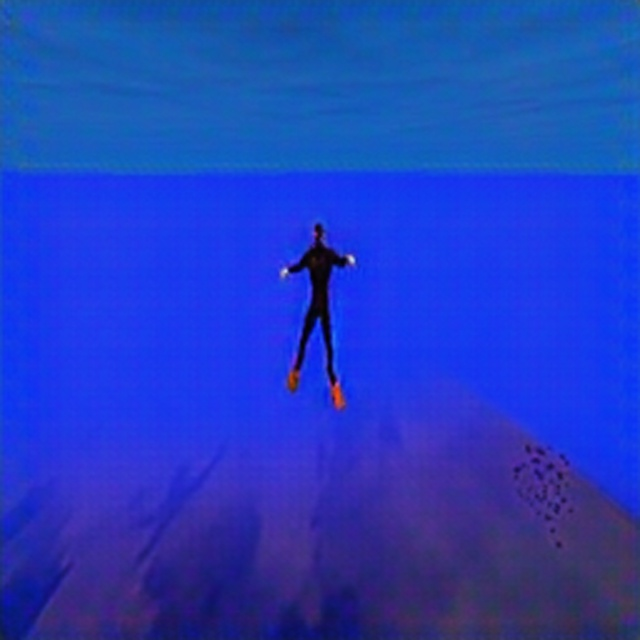diver: (278, 218, 358, 410)
